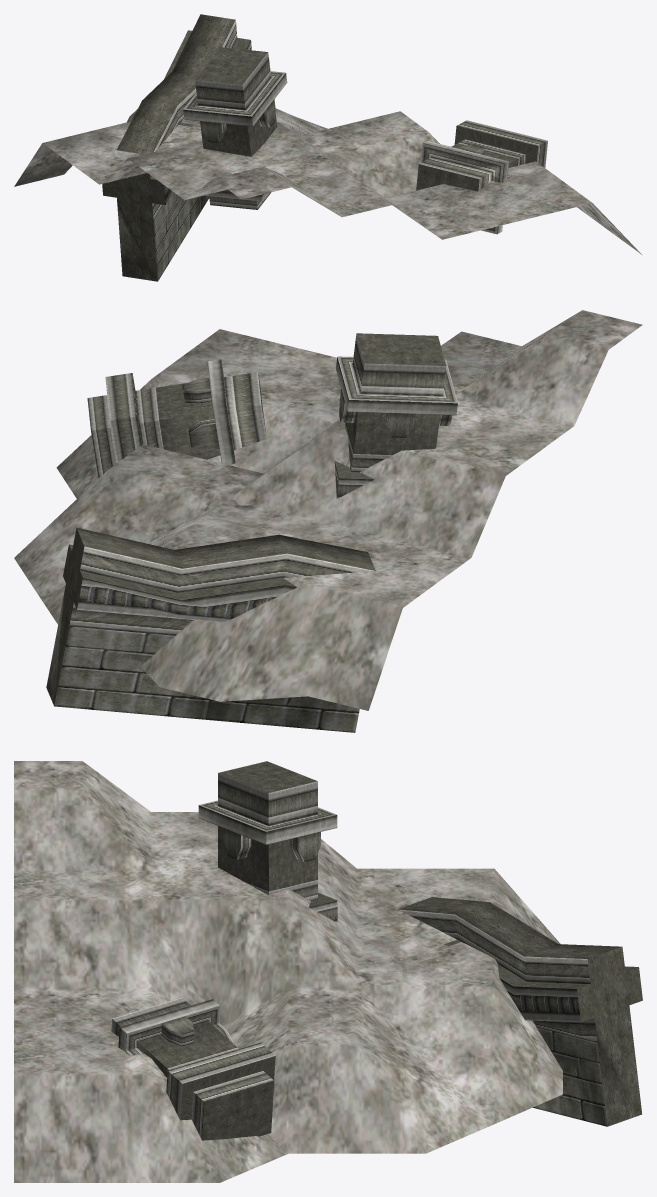
The model's file is DEBREE_CNR_FULL.fbx.
The picture shows the model from 3 angles, top to bottom: view 1: azimuth 30°, elevation 25°; view 2: azimuth 150°, elevation 25°; view 3: azimuth 270°, elevation 25°; orthographic projection. The views are drawn at different scales.
Visible parts, largest first — view 1: DEBREE_CNR_FULL; view 2: DEBREE_CNR_FULL; view 3: DEBREE_CNR_FULL.
Boxes of the visible parts, bbox=[...] form: DEBREE_CNR_FULL: bbox=[14, 14, 641, 281]; DEBREE_CNR_FULL: bbox=[14, 310, 642, 732]; DEBREE_CNR_FULL: bbox=[14, 761, 642, 1182].
Bounding box in the file's own units: 50557 × 31326 × 56888.
5 materials, 5 textured.
